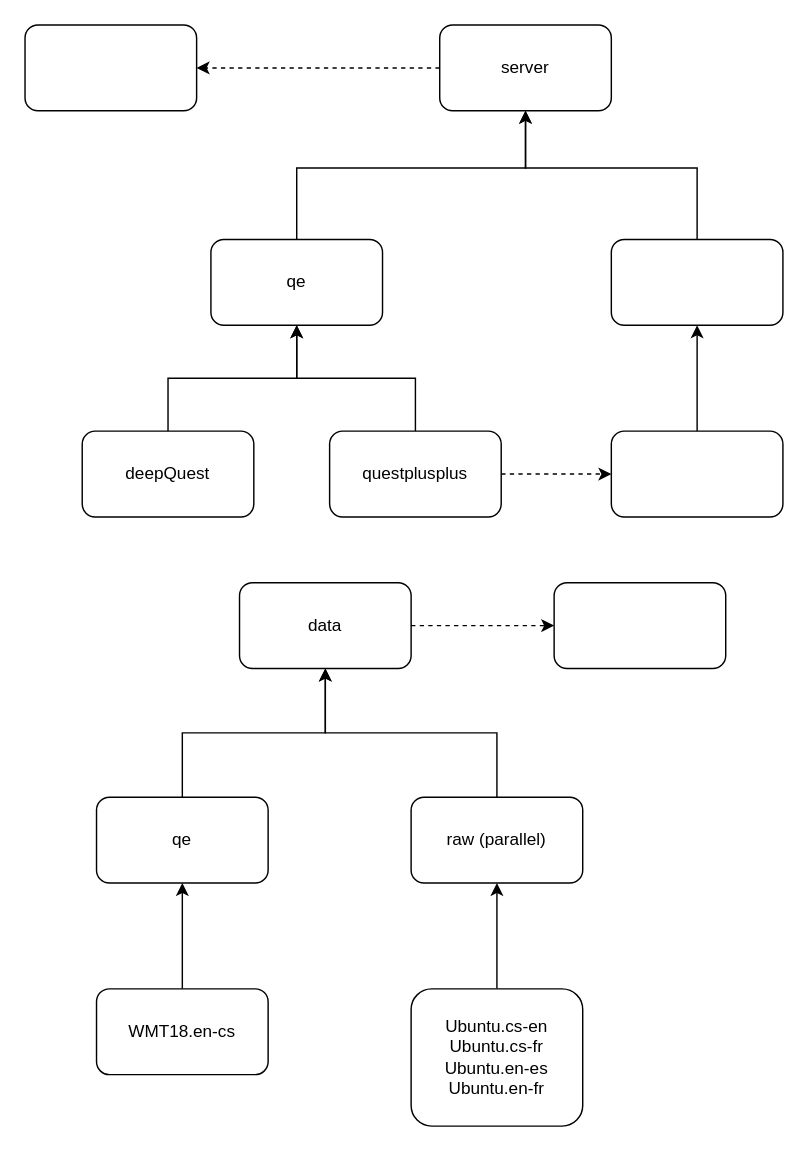
The diagram is 808 pixels wide and 1151 high, and some of its shapes have lost their labels. Here are the shapes that lost their labels. From the top down, the centre of each, then its label:
At point (110, 67): "utils".
At point (696, 281): "align".
At point (696, 473): "fast_align".
At point (639, 625): "prep_extract prep_parallel".
